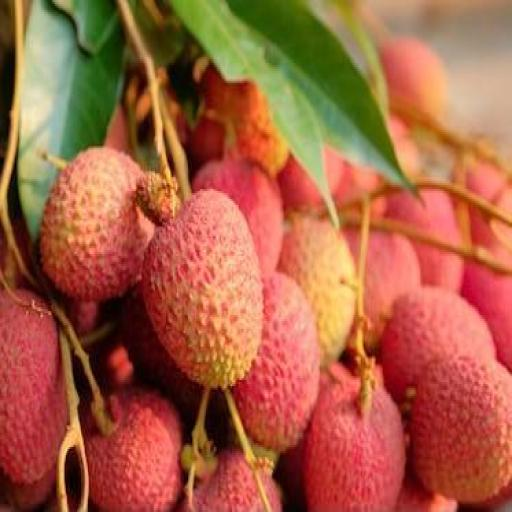lychee: (142, 190, 263, 387), (40, 148, 152, 301), (234, 272, 319, 452), (411, 357, 511, 502), (304, 373, 406, 511), (0, 290, 67, 484), (381, 288, 495, 401), (86, 388, 181, 511), (279, 217, 355, 366), (193, 158, 282, 277), (121, 288, 200, 419), (201, 65, 288, 175), (364, 233, 421, 350), (462, 262, 511, 372), (180, 449, 264, 511), (381, 38, 447, 116), (386, 190, 461, 244), (0, 467, 56, 511), (278, 156, 322, 210), (394, 475, 458, 511), (466, 162, 511, 212), (187, 117, 225, 169), (105, 105, 130, 153), (68, 300, 100, 336)
